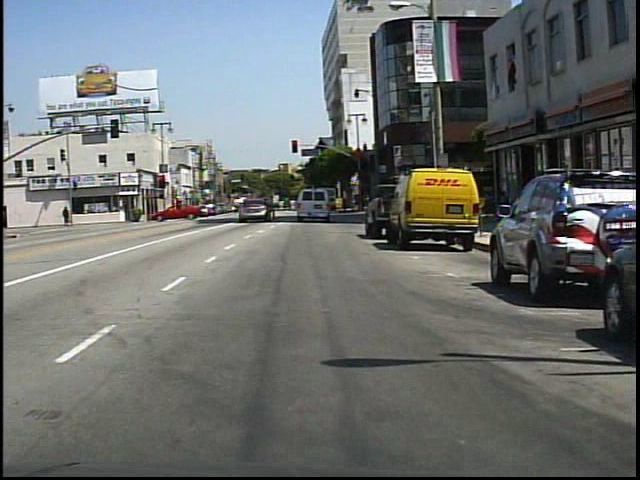person: (492, 184, 517, 227), (265, 193, 282, 223), (62, 205, 70, 225)
